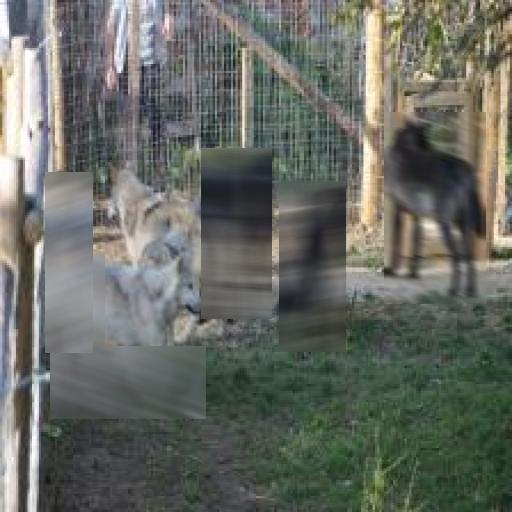wolf: (50, 254, 206, 419), (105, 162, 228, 346), (384, 112, 486, 303), (201, 148, 272, 319), (279, 181, 346, 352), (46, 172, 94, 353)
